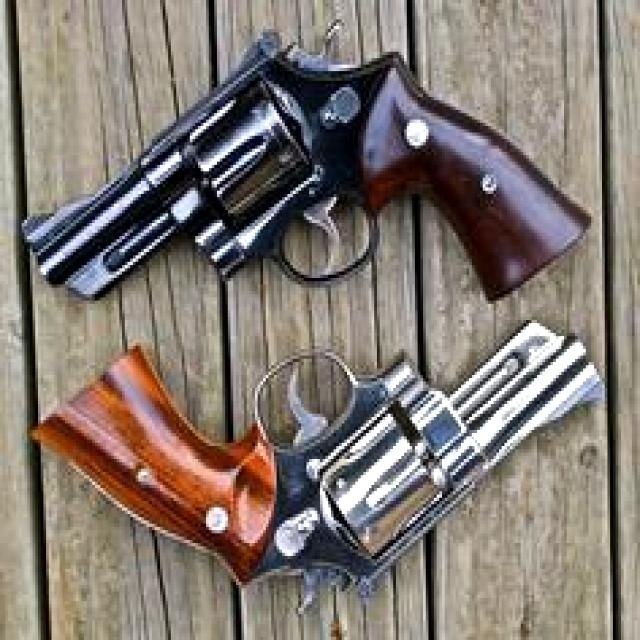revolver: (14, 0, 635, 315)
